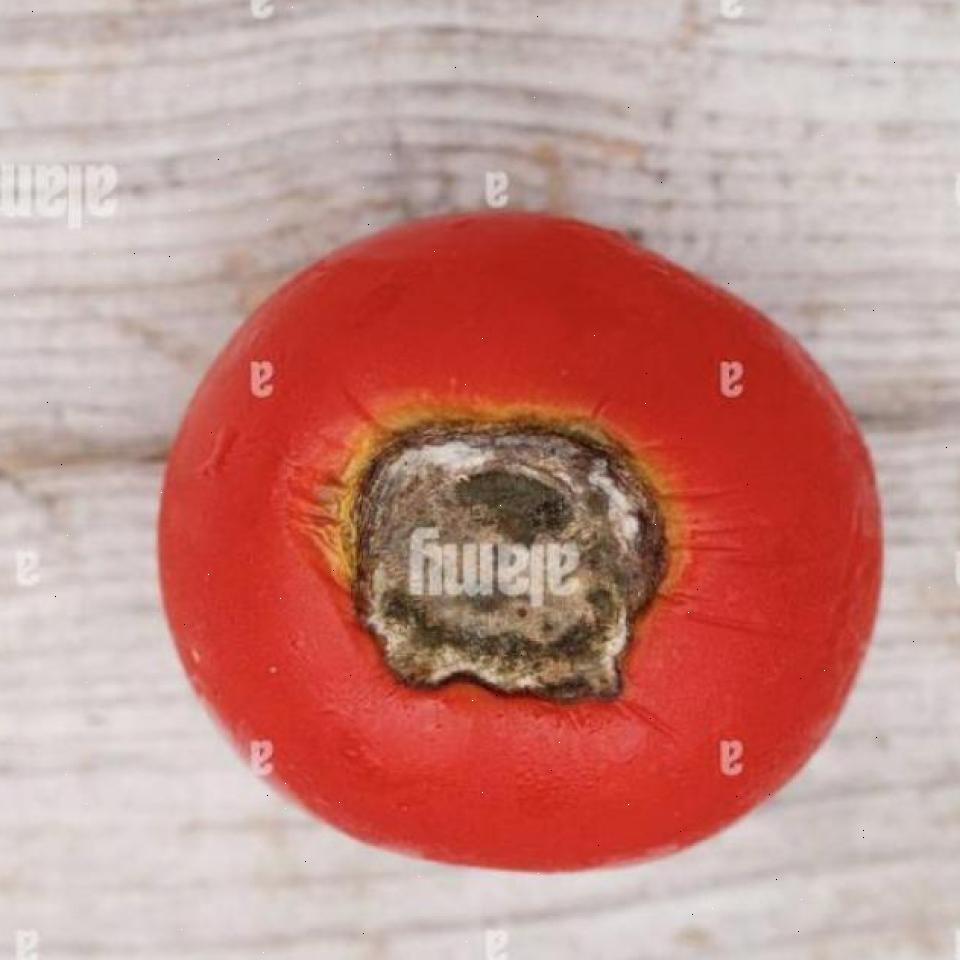Blossom_end_rot: (325, 380, 674, 714)
